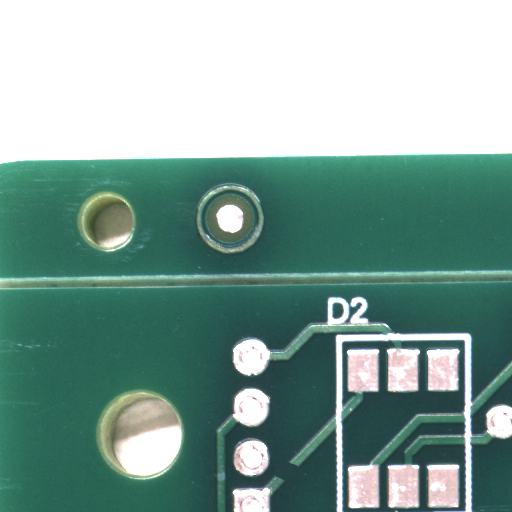Open_circuit: (287, 472, 312, 494)
